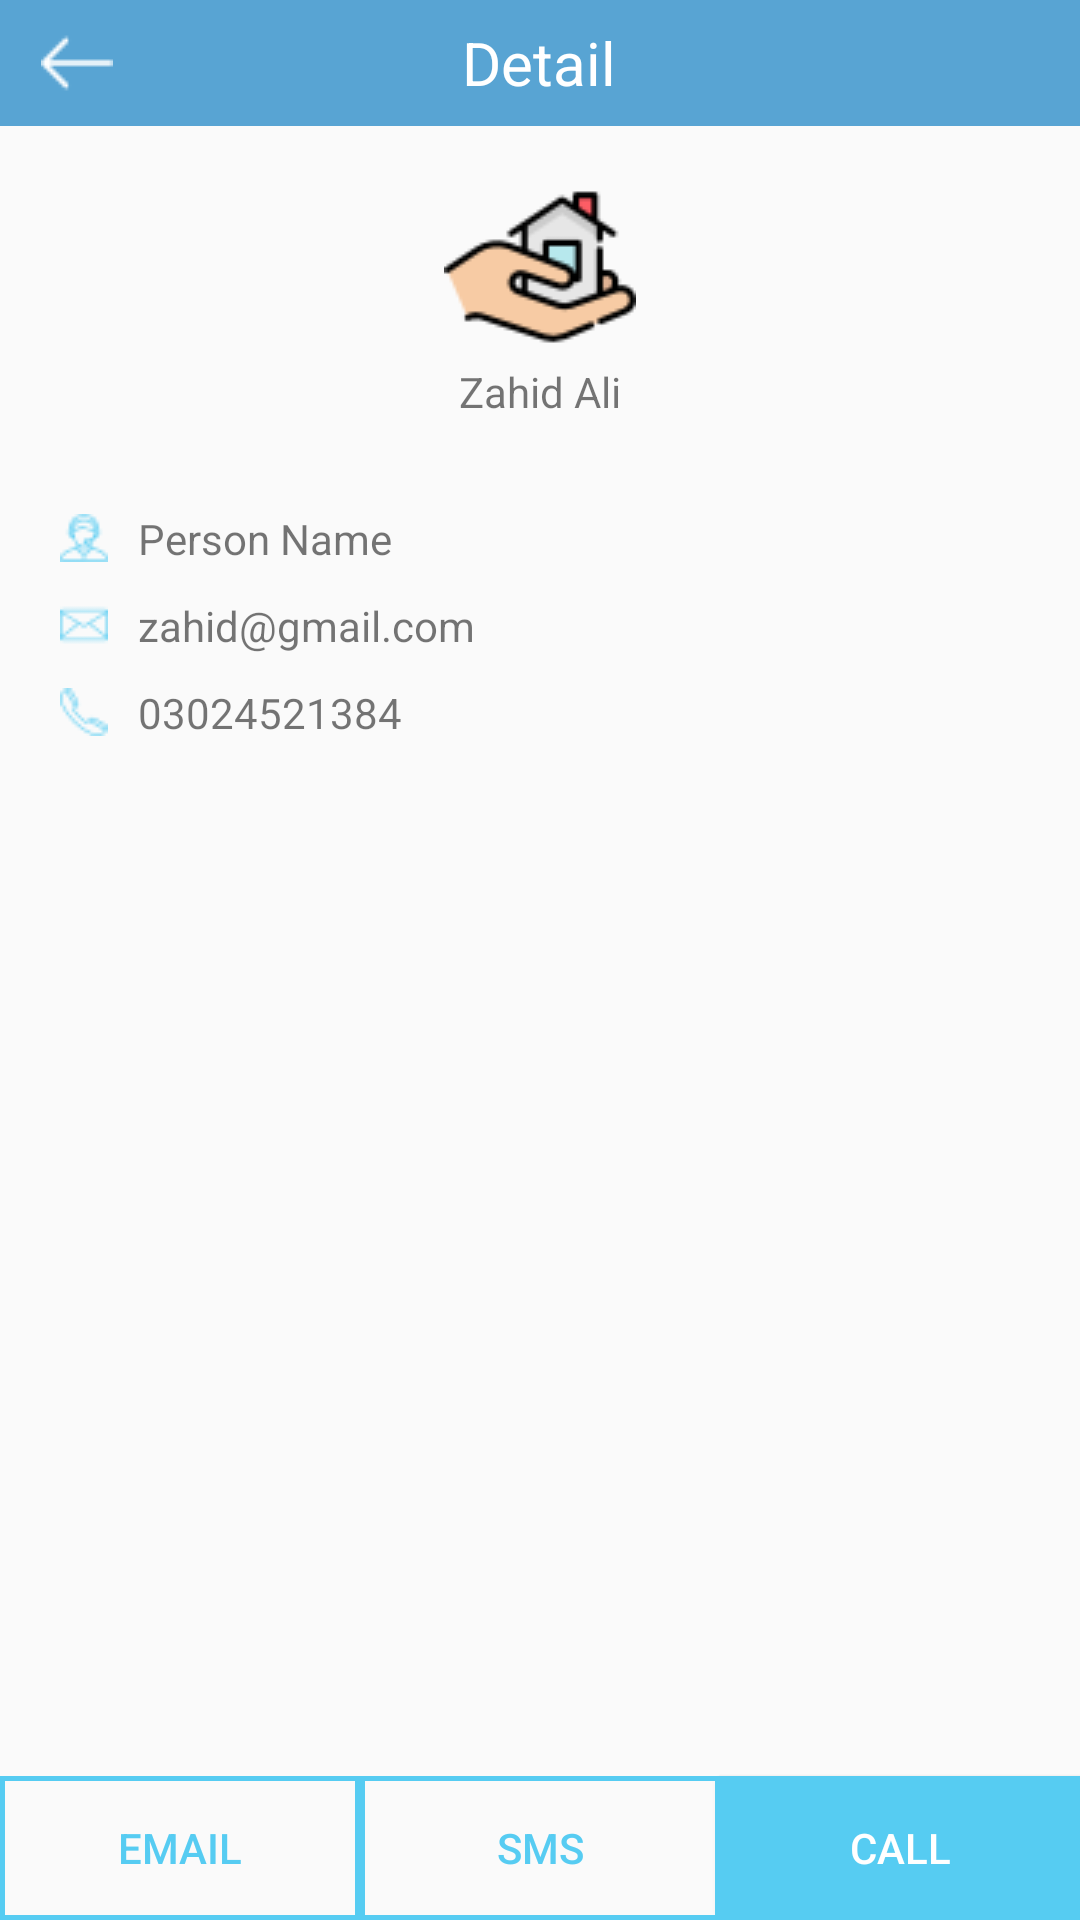

Screen size 1080*1920. Icon name, then its center in pixels as point (x, y):
back arrow: point (77, 63)
